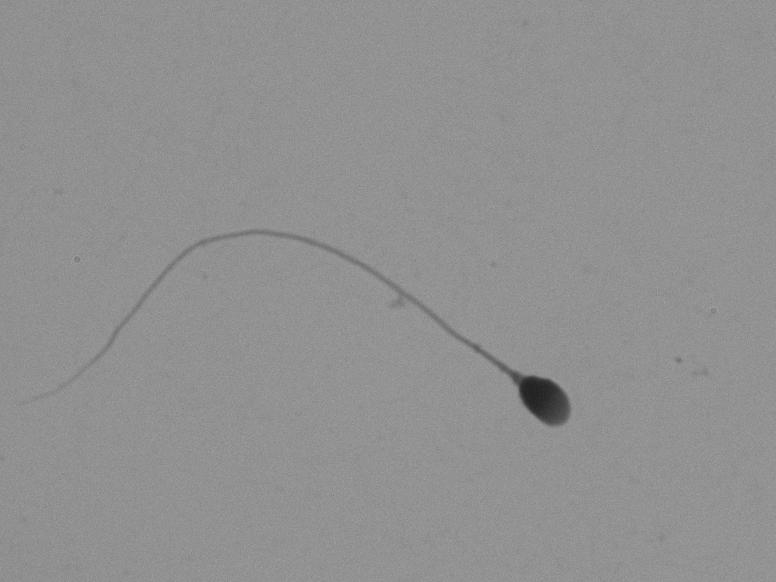Normal: (29, 186, 613, 481)
